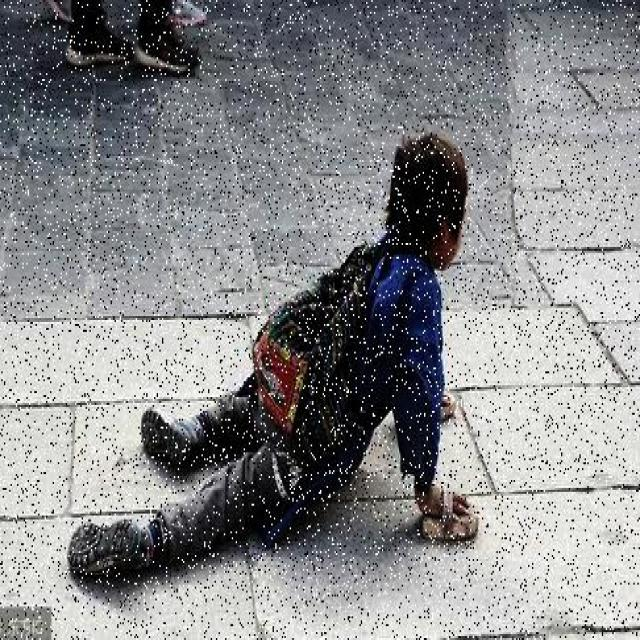fall: (76, 132, 508, 579)
